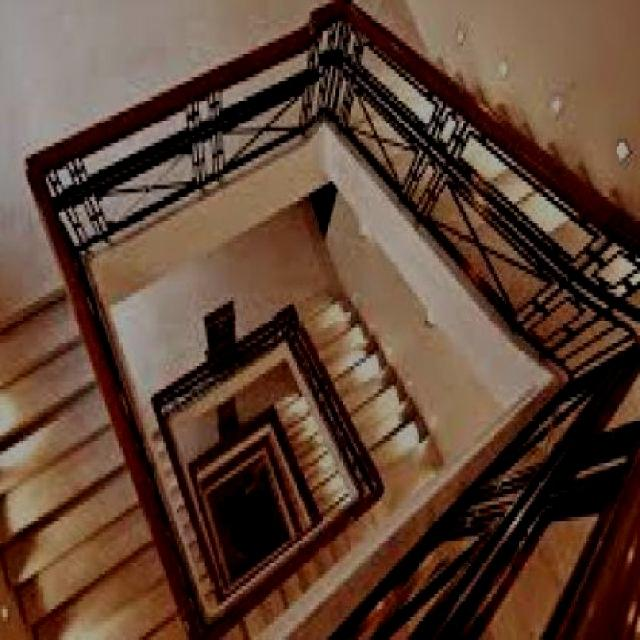stair: (2, 138, 218, 638), (274, 276, 443, 484)
